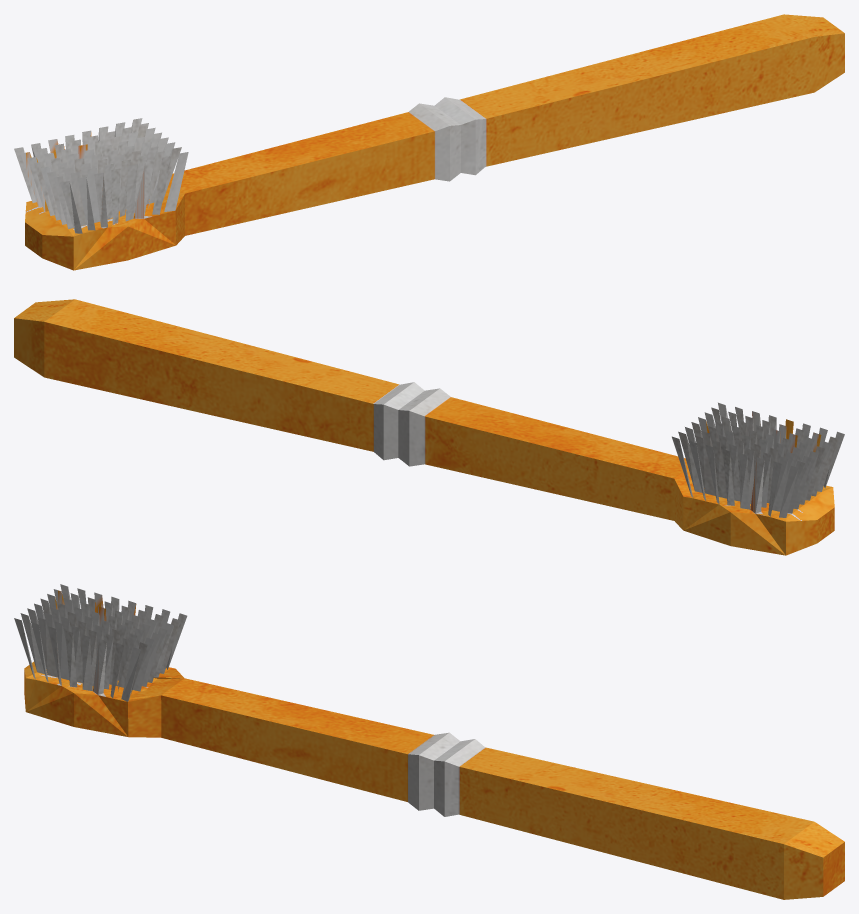
Rendered from Zahnbürste_2.fbx.
3 renders of one model, top to bottom at view 1: azimuth 30°, elevation 25°; view 2: azimuth 150°, elevation 25°; view 3: azimuth 330°, elevation 25°, orthographic.
Parts seen in each view (by area): view 1: Zahnbürste; view 2: Zahnbürste; view 3: Zahnbürste.
Part boxes in pixels (left/top/right/bottom): Zahnbürste: left=14, top=14, right=844, bottom=270; Zahnbürste: left=14, top=299, right=844, bottom=555; Zahnbürste: left=14, top=584, right=844, bottom=899.
Bounding box in the file's own units: 45.13 × 5.46 × 5.33.
